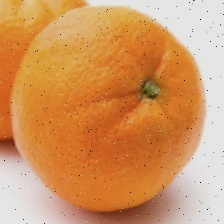orange: (47, 31, 198, 198)
